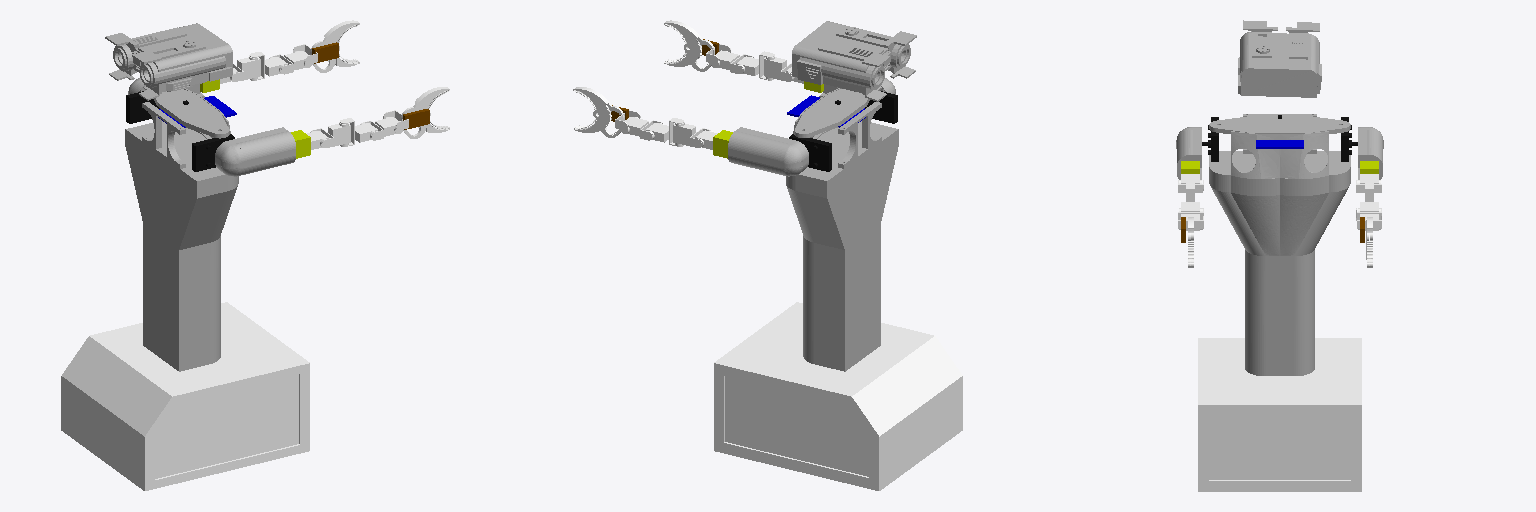
--- Facts derived from the render (not from the file) ---
3 views of the same robot in one strip: view 1: azimuth 30°, elevation 25°; view 2: azimuth 150°, elevation 25°; view 3: azimuth 270°, elevation 25° (orthographic).
Robot: gizmo — 48 links, 47 joints (18 revolute, 29 fixed); root link base_footprint; default pose: all joints at 0.
Visible links, largest first — view 1: base_link, torso_link, head, right_lift_link, right_rotate, right_left_claw, left_left_claw, left_rotate; view 2: base_link, torso_link, head, left_lift_link, left_rotate, right_left_claw, left_left_claw, right_rotate; view 3: torso_link, base_link, head, right_lift_link, left_lift_link.
Link boxes in pixels (bbox=[...]): base_link: bbox=[61, 302, 309, 490]; torso_link: bbox=[125, 88, 238, 371]; head: bbox=[105, 23, 232, 100]; right_lift_link: bbox=[215, 127, 295, 176]; right_rotate: bbox=[192, 134, 234, 171]; right_left_claw: bbox=[401, 87, 449, 138]; left_left_claw: bbox=[310, 20, 359, 72]; left_rotate: bbox=[126, 91, 159, 123]; base_link: bbox=[714, 302, 962, 490]; torso_link: bbox=[786, 88, 898, 371]; head: bbox=[792, 21, 916, 101]; left_lift_link: bbox=[728, 127, 808, 176]; left_rotate: bbox=[789, 134, 831, 171]; right_left_claw: bbox=[664, 20, 714, 71]; left_left_claw: bbox=[573, 87, 624, 137]; right_rotate: bbox=[865, 91, 897, 123]; torso_link: bbox=[1209, 114, 1350, 375]; base_link: bbox=[1198, 338, 1361, 491]; head: bbox=[1238, 20, 1321, 97]; right_lift_link: bbox=[1176, 127, 1201, 179]; left_lift_link: bbox=[1358, 127, 1383, 179].
Size in the robot's own frame: 0.7298 by 0.44 by 0.9421 metres.
28 mesh visuals loaded from 17 distinct referenced files (12 binary STL); not drawn: 6 (reference not matched to a file when rendering).

URDF robot description (gizmo):
<?xml version="1.0" encoding="utf-8"?>
<!-- =================================================================================== -->
<!-- |    This document was autogenerated by xacro from linorobot.xacro                | -->
<!-- |    EDITING THIS FILE BY HAND IS NOT RECOMMENDED                                 | -->
<!-- =================================================================================== -->
<!-- XML namespaces -->
<robot name="gizmo">
  <!-- ============================  A Few Color Macros  ============================ -->
  <!-- ============================  A Few Color Macros  ============================ -->
  <link name="base_footprint">
    <visual>
      <origin rpy="0 0 0" xyz="0 0 0"/>
      <geometry>
        <box size="0.1 0.1 0.005"/>
      </geometry>
      <material name="gold">
        <color rgba="0.5 0.3 0 1.0"/>
      </material>
    </visual>
    <collision>
      <origin rpy="0 0 0" xyz="0 0 0"/>
      <geometry>
        <box size="0.1 0.1 0.005"/>
      </geometry>
      <inertial>
        <mass value="0.01"/>
        <inertia ixx="0.0001" ixy="0.0" ixz="0.0" iyy="0.0001" iyz="0.0" izz="0.0001"/>
      </inertial>
    </collision>
  </link>
  <gazebo reference="base_footprint">
    <material>Gazebo/FlatBlack</material>
    <selfCollide>false</selfCollide>
    <turnGravityOff>false</turnGravityOff>
  </gazebo>
  <link name="imu_base">
    <visual>
      <origin rpy="0 0 0" xyz="0 0 0"/>
      <geometry>
        <box size="0.01 0.01 0.005"/>
      </geometry>
      <material name="black">
        <color rgba="0.1 0.1 0.1 1.0"/>
      </material>
    </visual>
    <collision>
      <origin rpy="0 0 0" xyz="0 0 0"/>
      <geometry>
        <box size="0.01 0.01 0.005"/>
      </geometry>
      <inertial>
        <mass value="0.01"/>
        <inertia ixx="0.0001" ixy="0.0" ixz="0.0" iyy="0.0001" iyz="0.0" izz="0.0001"/>
      </inertial>
    </collision>
  </link>
  <gazebo reference="imu_base">
    <material>Gazebo/FlatBlack</material>
    <selfCollide>false</selfCollide>
    <turnGravityOff>false</turnGravityOff>
  </gazebo>
  <link name="base_link">
    <visual>
      <geometry>
        <mesh filename="package://r2_description/mesh/base.stl" scale="0.001 0.001 0.001"/>
      </geometry>
      <material name="White">
        <color rgba="1.0 1.0 1.0 1.0"/>
      </material>
      <origin rpy="0 0 0" xyz="0 0 0"/>
    </visual>
    <collision>
      <origin rpy="0 0 0" xyz="0 0 0"/>
      <geometry>
        <mesh filename="package://r2_description/mesh/base.stl" scale="0.001 0.001 0.001"/>
      </geometry>
    </collision>
  </link>
  <link name="kinect_link">
    <inertial>
      <mass value="1.0"/>
      <origin xyz="0 0 0"/>
      <inertia ixx="1.0" ixy="0.0" ixz="0.0" iyy="1.0" iyz="0.0" izz="1.0"/>
    </inertial>
    <visual>
      <origin rpy="0 0 0" xyz=" 0 0 0 "/>
      <geometry>
        <mesh filename="package://r2_description/mesh/kinect.stl" scale="0.001 0.001 0.001"/>
      </geometry>
      <material name="ax12_color">
        <color rgba="0.1 0.1 0.1 1.0"/>
      </material>
    </visual>
    <collision>
      <origin rpy="0 0 0" xyz="0 0 0"/>
      <geometry>
        <mesh filename="package://r2_description/mesh/kinect.stl" scale="0.001 0.001 0.001"/>
      </geometry>
    </collision>
  </link>
  <link name="elbow_joint_r">
    <visual>
      <origin rpy="0 0 0" xyz="0 0 0"/>
      <geometry>
        <box size="0.042 0.042 0.042"/>
      </geometry>
      <material name="yellow2">
        <color rgba="0.8 0.9 0 1.0"/>
      </material>
    </visual>
    <collision>
      <origin rpy="0 0 0" xyz="0 0 0"/>
      <geometry>
        <box size="0.042 0.042 0.042"/>
      </geometry>
      <inertial>
        <mass value="0.01"/>
        <inertia ixx="0.0001" ixy="0.0" ixz="0.0" iyy="0.0001" iyz="0.0" izz="0.0001"/>
      </inertial>
    </collision>
  </link>
  <gazebo reference="elbow_joint_r">
    <material>Gazebo/FlatBlack</material>
    <selfCollide>false</selfCollide>
    <turnGravityOff>false</turnGravityOff>
  </gazebo>
  <link name="elbow_joint_l">
    <visual>
      <origin rpy="0 0 0" xyz="0 0 0"/>
      <geometry>
        <box size="0.042 0.042 0.042"/>
      </geometry>
      <material name="yellow2">
        <color rgba="0.8 0.9 0 1.0"/>
      </material>
    </visual>
    <collision>
      <origin rpy="0 0 0" xyz="0 0 0"/>
      <geometry>
        <box size="0.042 0.042 0.042"/>
      </geometry>
      <inertial>
        <mass value="0.01"/>
        <inertia ixx="0.0001" ixy="0.0" ixz="0.0" iyy="0.0001" iyz="0.0" izz="0.0001"/>
      </inertial>
    </collision>
  </link>
  <gazebo reference="elbow_joint_l">
    <material>Gazebo/FlatBlack</material>
    <selfCollide>false</selfCollide>
    <turnGravityOff>false</turnGravityOff>
  </gazebo>
  <link name="torso_link">
    <visual>
      <geometry>
        <mesh filename="package://r2_description/mesh/gizmo2_torso.stl" scale="0.001 0.001 0.001"/>
      </geometry>
      <material name="grey1">
        <color rgba="0.75 0.75 0.75 1.0"/>
      </material>
      <origin rpy="0 0 0" xyz="0 0 0"/>
    </visual>
    <collision>
      <origin rpy="0 0 0" xyz="-0 0 0"/>
      <geometry>
        <mesh filename="package://r2_description/mesh/gizmo2_torso.stl" scale="0.001 0.001 0.001"/>
      </geometry>
    </collision>
  </link>
  <link name="scanner_link">
    <visual>
      <geometry>
        <mesh filename="package://r2_description/mesh/X4.stl" scale="0.001 0.001 0.001"/>
      </geometry>
      <material name="grey1">
        <color rgba="0.75 0.75 0.75 1.0"/>
      </material>
      <origin rpy="0 0 0" xyz="0 0 0"/>
    </visual>
    <collision>
      <origin rpy="0 0 0" xyz="-0 0 0"/>
      <geometry>
        <mesh filename="package://r2_description/mesh/X4.stl" scale="0.001 0.001 0.001"/>
      </geometry>
    </collision>
  </link>
  <link name="pan_link">
    <visual>
      <origin rpy=" 1.57 0 1.57" xyz="0 0 0"/>
      <geometry>
        <mesh filename="package://r2_description/mesh/ax12.stl" scale="0.001 0.001 0.001"/>
      </geometry>
      <material name="ax12_color">
        <color rgba="0.1 0.1 0.1 1.0"/>
      </material>
    </visual>
    <collision>
      <origin rpy=" 1.57 0 1.57" xyz="0 0 0"/>
      <geometry>
        <!--<box size="0.032 0.038 0.05" />-->
        <mesh filename="package://r2_description/mesh/ax12.stl" scale="0.001 0.001 0.001"/>
      </geometry>
    </collision>
    <inertial>
      <mass value="0.055"/>
      <inertia ixx="0.0001" ixy="0.0" ixz="0.0" iyy="0.0001" iyz="0.0" izz="0.0001"/>
    </inertial>
  </link>
  <gazebo reference="pan_link">
    <material>Gazebo/FlatBlack</material>
    <selfCollide>false</selfCollide>
    <turnGravityOff>false</turnGravityOff>
  </gazebo>
  <link name="head_pan_link">
    <visual>
      <origin rpy="0 0 0" xyz="0 0 0"/>
      <geometry>
        <box size="0.15 0.1 0.005"/>
      </geometry>
      <material name="blue">
        <color rgba="0 0 0.9 1.0"/>
      </material>
    </visual>
    <collision>
      <origin rpy="0 0 0" xyz="0 0 0"/>
      <geometry>
        <box size="0.15 0.1 0.005"/>
      </geometry>
      <inertial>
        <mass value="0.01"/>
        <inertia ixx="0.0001" ixy="0.0" ixz="0.0" iyy="0.0001" iyz="0.0" izz="0.0001"/>
      </inertial>
    </collision>
  </link>
  <gazebo reference="head_pan_link">
    <material>Gazebo/FlatBlack</material>
    <selfCollide>false</selfCollide>
    <turnGravityOff>false</turnGravityOff>
  </gazebo>
  <link name="head_tilt_link">
    <visual>
      <origin rpy="0 0 3.14" xyz="0 0 0"/>
      <geometry>
        <mesh filename="package://r2_description/mesh/ax12.stl" scale="0.001 0.001 0.001"/>
      </geometry>
      <material name="ax12_color">
        <color rgba="0.1 0.1 0.1 1.0"/>
      </material>
    </visual>
    <collision>
      <origin rpy="0 0 3.14" xyz="0 0 0"/>
      <geometry>
        <!--<box size="0.032 0.038 0.05" />-->
        <mesh filename="package://r2_description/mesh/ax12.stl" scale="0.001 0.001 0.001"/>
      </geometry>
    </collision>
    <inertial>
      <mass value="0.055"/>
      <inertia ixx="0.0001" ixy="0.0" ixz="0.0" iyy="0.0001" iyz="0.0" izz="0.0001"/>
    </inertial>
  </link>
  <gazebo reference="head_tilt_link">
    <material>Gazebo/FlatBlack</material>
    <selfCollide>false</selfCollide>
    <turnGravityOff>false</turnGravityOff>
  </gazebo>
  <link name="head_tilt_r_bracket_f2">
    <visual>
      <origin rpy="0 0 0" xyz="0 0 0"/>
      <geometry>
        <mesh filename="package://r2_description/mesh/F2.stl" scale="0.001 0.001 0.001"/>
      </geometry>
      <material name="bracket_color">
        <color rgba="0.9 0.9 0.9 1.0"/>
      </material>
    </visual>
    <collision>
      <origin rpy="0 0 0" xyz="0 0 0"/>
      <geometry>
        <mesh filename="package://r2_description/mesh/F2.stl" scale="0.001 0.001 0.001"/>
      </geometry>
    </collision>
    <inertial>
      <mass value="0.02"/>
      <inertia ixx="0.0001" ixy="0.0" ixz="0.0" iyy="0.0001" iyz="0.0" izz="0.0001"/>
    </inertial>
  </link>
  <gazebo reference="head_tilt_r_bracket_f2">
    <material>Gazebo/White</material>
    <selfCollide>false</selfCollide>
    <turnGravityOff>false</turnGravityOff>
  </gazebo>
  <link name="neck">
    <visual>
      <geometry>
        <mesh filename="package://r2_description/mesh/gizmo_neck1.stl" scale="0.001 0.001 0.001"/>
      </geometry>
      <material name="grey1">
        <color rgba="0.75 0.75 0.75 1.0"/>
      </material>
      <origin rpy="0 0 0" xyz="0 0 0"/>
    </visual>
    <collision>
      <origin rpy="0 0 0" xyz="-0 0 0"/>
      <geometry>
        <mesh filename="package://r2_description/mesh/gizmo_neck1.stl" scale="0.001 0.001 0.001"/>
      </geometry>
    </collision>
  </link>
  <link name="head">
    <visual>
      <geometry>
        <mesh filename="package://r2_description/mesh/head1.stl" scale="0.0034 0.0034 0.0034"/>
      </geometry>
      <material name="grey1">
        <color rgba="0.75 0.75 0.75 1.0"/>
      </material>
      <origin rpy="0 0 0" xyz="0 0 0"/>
    </visual>
    <collision>
      <origin rpy="0 0 0" xyz="-0 0 0"/>
      <geometry>
        <mesh filename="package://r2_description/mesh/head1.stl" scale="0.0034 0.0034 0.0034"/>
      </geometry>
    </collision>
  </link>
  <link name="camera_link">
    <visual>
      <origin rpy="0 1.57 0" xyz="0 0 0"/>
      <geometry>
        <cylinder length="0.025" radius="0.01"/>
      </geometry>
      <material name="grey1">
        <color rgba="0.75 0.75 0.75 1.0"/>
      </material>
    </visual>
    <collision>
      <origin rpy="0 1.57 0" xyz="0 0 0"/>
      <geometry>
        <cylinder length="0.025" radius="0.01"/>
      </geometry>
    </collision>
    <inertial>
      <mass value="0.1"/>
      <inertia ixx="0.0001" ixy="0.0" ixz="0.0" iyy="0.0001" iyz="0.0" izz="0.0001"/>
    </inertial>
  </link>
  <gazebo reference="camera_link">
    <material>Gazebo/Grey</material>
    <selfCollide>false</selfCollide>
    <turnGravityOff>false</turnGravityOff>
  </gazebo>
  <link name="right_rotate">
    <visual>
      <geometry>
        <mesh filename="package://r2_description/mesh/gizmo2_servo_r.stl" scale="0.001 0.001 0.001"/>
      </geometry>
      <material name="black">
        <color rgba="0.1 0.1 0.1 1.0"/>
      </material>
      <origin rpy="0 0 0" xyz="0 0 0"/>
    </visual>
    <collision>
      <origin rpy="0 0 0" xyz="-0 0 0"/>
      <geometry>
        <mesh filename="package://r2_description/mesh/gizmo2_servo_r.stl" scale="0.001 0.001 0.001"/>
      </geometry>
    </collision>
  </link>
  <link name="left_rotate">
    <visual>
      <geometry>
        <mesh filename="package://r2_description/mesh/gizmo2_servo_l.stl" scale="0.001 0.001 0.001"/>
      </geometry>
      <material name="black">
        <color rgba="0.1 0.1 0.1 1.0"/>
      </material>
      <origin rpy="0 0 0" xyz="0 0 0"/>
    </visual>
    <collision>
      <origin rpy="0 0 0" xyz="-0 0 0"/>
      <geometry>
        <mesh filename="package://r2_description/mesh/gizmo2_servo_l.stl" scale="0.001 0.001 0.001"/>
      </geometry>
    </collision>
  </link>
  <link name="right_lift_link">
    <visual>
      <geometry>
        <mesh filename="package://r2_description/mesh/gizmo_upper_arm_r2.stl" scale="0.001 0.001 0.001"/>
      </geometry>
      <material name="grey1">
        <color rgba="0.75 0.75 0.75 1.0"/>
      </material>
      <origin rpy="0 0 0" xyz="0 0 0"/>
    </visual>
    <collision>
      <origin rpy="0 0 0" xyz="-0 0 0"/>
      <geometry>
        <mesh filename="package://r2_description/mesh/gizmo_upper_arm_r2.stl" scale="0.001 0.001 0.001"/>
      </geometry>
    </collision>
  </link>
  <link name="left_lift_link">
    <visual>
      <geometry>
        <mesh filename="package://r2_description/mesh/gizmo_upper_arm_l2.stl" scale="0.001 0.001 0.001"/>
      </geometry>
      <material name="grey1">
        <color rgba="0.75 0.75 0.75 1.0"/>
      </material>
      <origin rpy="0 0 0" xyz="0 0 0"/>
    </visual>
    <collision>
      <origin rpy="0 0 0" xyz="-0 0 0"/>
      <geometry>
        <mesh filename="package://r2_description/mesh/gizmo_upper_arm_l2.stl" scale="0.001 0.001 0.001"/>
      </geometry>
    </collision>
  </link>
  <link name="servo_r4">
    <visual>
      <geometry>
        <mesh filename="package://r2_description/mesh/servo.stl" scale="0.001 0.001 0.001"/>
      </geometry>
      <material name="White">
        <color rgba="1.0 1.0 1.0 1.0"/>
      </material>
      <origin rpy="0 0 0" xyz="0 0 0"/>
    </visual>
    <collision>
      <origin rpy="0 0 0" xyz="0 0 0"/>
      <geometry>
        <mesh filename="package://r2_description/mesh/servo.stl" scale="0.001 0.001 0.001"/>
      </geometry>
    </collision>
  </link>
  <link name="r_bracket5">
    <visual>
      <geometry>
        <mesh filename="package://r2_description/mesh/drive_bracket1.stl" scale="0.001 0.001 0.001"/>
      </geometry>
      <material name="White">
        <color rgba="1.0 1.0 1.0 1.0"/>
      </material>
      <origin rpy="0 0 0" xyz="0 0 0"/>
    </visual>
    <collision>
      <origin rpy="0 0 0" xyz="0 0 0"/>
      <geometry>
        <mesh filename="package://r2_description/mesh/drive_bracket1.stl" scale="0.001 0.001 0.001"/>
      </geometry>
    </collision>
  </link>
  <link name="servo_r5">
    <visual>
      <geometry>
        <mesh filename="package://r2_description/mesh/servo.stl" scale="0.001 0.001 0.001"/>
      </geometry>
      <material name="White">
        <color rgba="1.0 1.0 1.0 1.0"/>
      </material>
      <origin rpy="0 0 0" xyz="0 0 0"/>
    </visual>
    <collision>
      <origin rpy="0 0 0" xyz="0 0 0"/>
      <geometry>
        <mesh filename="package://r2_description/mesh/servo.stl" scale="0.001 0.001 0.001"/>
      </geometry>
    </collision>
  </link>
  <link name="r_bracket6">
    <visual>
      <geometry>
        <mesh filename="package://r2_description/mesh/drive_bracket1.stl" scale="0.001 0.001 0.001"/>
      </geometry>
      <material name="White">
        <color rgba="1.0 1.0 1.0 1.0"/>
      </material>
      <origin rpy="0 0 0" xyz="0 0 0"/>
    </visual>
    <collision>
      <origin rpy="0 0 0" xyz="0 0 0"/>
      <geometry>
        <mesh filename="package://r2_description/mesh/drive_bracket1.stl" scale="0.001 0.001 0.001"/>
      </geometry>
    </collision>
  </link>
  <link name="servo_r6">
    <visual>
      <geometry>
        <mesh filename="package://r2_description/mesh/servo.stl" scale="0.001 0.001 0.001"/>
      </geometry>
      <material name="White">
        <color rgba="1.0 1.0 1.0 1.0"/>
      </material>
      <origin rpy="0 0 0" xyz="0 0 0"/>
    </visual>
    <collision>
      <origin rpy="0 0 0" xyz="0 0 0"/>
      <geometry>
        <mesh filename="package://r2_description/mesh/servo.stl" scale="0.001 0.001 0.001"/>
      </geometry>
    </collision>
  </link>
  <link name="r_bracket7">
    <visual>
      <geometry>
        <mesh filename="package://r2_description/mesh/drive_bracket1.stl" scale="0.001 0.001 0.001"/>
      </geometry>
      <material name="White">
        <color rgba="1.0 1.0 1.0 1.0"/>
      </material>
      <origin rpy="0 0 0" xyz="0 0 0"/>
    </visual>
    <collision>
      <origin rpy="0 0 0" xyz="0 0 0"/>
      <geometry>
        <mesh filename="package://r2_description/mesh/drive_bracket1.stl" scale="0.001 0.001 0.001"/>
      </geometry>
    </collision>
  </link>
  <link name="servo_r7">
    <visual>
      <geometry>
        <mesh filename="package://r2_description/mesh/servo.stl" scale="0.001 0.001 0.001"/>
      </geometry>
      <material name="White">
        <color rgba="1.0 1.0 1.0 1.0"/>
      </material>
      <origin rpy="0 0 0" xyz="0 0 0"/>
    </visual>
    <collision>
      <origin rpy="0 0 0" xyz="0 0 0"/>
      <geometry>
        <mesh filename="package://r2_description/mesh/servo.stl" scale="0.001 0.001 0.001"/>
      </geometry>
    </collision>
  </link>
  <link name="r_bracket8">
    <visual>
      <geometry>
        <mesh filename="package://r2_description/mesh/drive_bracket1.stl" scale="0.001 0.001 0.001"/>
      </geometry>
      <material name="White">
        <color rgba="1.0 1.0 1.0 1.0"/>
      </material>
      <origin rpy="0 0 0" xyz="0 0 0"/>
    </visual>
    <collision>
      <origin rpy="0 0 0" xyz="0 0 0"/>
      <geometry>
        <mesh filename="package://r2_description/mesh/drive_bracket1.stl" scale="0.001 0.001 0.001"/>
      </geometry>
    </collision>
  </link>
  <link name="servo_l4">
    <visual>
      <geometry>
        <mesh filename="package://r2_description/mesh/servo.stl" scale="0.001 0.001 0.001"/>
      </geometry>
      <material name="White">
        <color rgba="1.0 1.0 1.0 1.0"/>
      </material>
      <origin rpy="0 0 0" xyz="0 0 0"/>
    </visual>
    <collision>
      <origin rpy="0 0 0" xyz="0 0 0"/>
      <geometry>
        <mesh filename="package://r2_description/mesh/servo.stl" scale="0.001 0.001 0.001"/>
      </geometry>
    </collision>
  </link>
  <link name="l_bracket5">
    <visual>
      <geometry>
        <mesh filename="package://r2_description/mesh/drive_bracket1.stl" scale="0.001 0.001 0.001"/>
      </geometry>
      <material name="White">
        <color rgba="1.0 1.0 1.0 1.0"/>
      </material>
      <origin rpy="0 0 0" xyz="0 0 0"/>
    </visual>
    <collision>
      <origin rpy="0 0 0" xyz="0 0 0"/>
      <geometry>
        <mesh filename="package://r2_description/mesh/drive_bracket1.stl" scale="0.001 0.001 0.001"/>
      </geometry>
    </collision>
  </link>
  <link name="servo_l5">
    <visual>
      <geometry>
        <mesh filename="package://r2_description/mesh/servo.stl" scale="0.001 0.001 0.001"/>
      </geometry>
      <material name="White">
        <color rgba="1.0 1.0 1.0 1.0"/>
      </material>
      <origin rpy="0 0 0" xyz="0 0 0"/>
    </visual>
    <collision>
      <origin rpy="0 0 0" xyz="0 0 0"/>
      <geometry>
        <mesh filename="package://r2_description/mesh/servo.stl" scale="0.001 0.001 0.001"/>
      </geometry>
    </collision>
  </link>
  <link name="l_bracket6">
    <visual>
      <geometry>
        <mesh filename="package://r2_description/mesh/drive_bracket1.stl" scale="0.001 0.001 0.001"/>
      </geometry>
      <material name="White">
        <color rgba="1.0 1.0 1.0 1.0"/>
      </material>
      <origin rpy="0 0 0" xyz="0 0 0"/>
    </visual>
    <collision>
      <origin rpy="0 0 0" xyz="0 0 0"/>
      <geometry>
        <mesh filename="package://r2_description/mesh/drive_bracket1.stl" scale="0.001 0.001 0.001"/>
      </geometry>
    </collision>
  </link>
  <link name="servo_l6">
    <visual>
      <geometry>
        <mesh filename="package://r2_description/mesh/servo.stl" scale="0.001 0.001 0.001"/>
      </geometry>
      <material name="White">
        <color rgba="1.0 1.0 1.0 1.0"/>
      </material>
      <origin rpy="0 0 0" xyz="0 0 0"/>
    </visual>
    <collision>
      <origin rpy="0 0 0" xyz="0 0 0"/>
      <geometry>
        <mesh filename="package://r2_description/mesh/servo.stl" scale="0.001 0.001 0.001"/>
      </geometry>
    </collision>
  </link>
  <link name="l_bracket7">
    <visual>
      <geometry>
        <mesh filename="package://r2_description/mesh/drive_bracket1.stl" scale="0.001 0.001 0.001"/>
      </geometry>
      <material name="White">
        <color rgba="1.0 1.0 1.0 1.0"/>
      </material>
      <origin rpy="0 0 0" xyz="0 0 0"/>
    </visual>
    <collision>
      <origin rpy="0 0 0" xyz="0 0 0"/>
      <geometry>
        <mesh filename="package://r2_description/mesh/drive_bracket1.stl" scale="0.001 0.001 0.001"/>
      </geometry>
    </collision>
  </link>
  <link name="servo_l7">
    <visual>
      <geometry>
        <mesh filename="package://r2_description/mesh/servo.stl" scale="0.001 0.001 0.001"/>
      </geometry>
      <material name="White">
        <color rgba="1.0 1.0 1.0 1.0"/>
      </material>
      <origin rpy="0 0 0" xyz="0 0 0"/>
    </visual>
    <collision>
      <origin rpy="0 0 0" xyz="0 0 0"/>
      <geometry>
        <mesh filename="package://r2_description/mesh/servo.stl" scale="0.001 0.001 0.001"/>
      </geometry>
    </collision>
  </link>
  <link name="l_bracket8">
    <visual>
      <geometry>
        <mesh filename="package://r2_description/mesh/drive_bracket1.stl" scale="0.001 0.001 0.001"/>
      </geometry>
      <material name="White">
        <color rgba="1.0 1.0 1.0 1.0"/>
      </material>
      <origin rpy="0 0 0" xyz="0 0 0"/>
    </visual>
    <collision>
      <origin rpy="0 0 0" xyz="0 0 0"/>
      <geometry>
        <mesh filename="package://r2_description/mesh/drive_bracket1.stl" scale="0.001 0.001 0.001"/>
      </geometry>
    </collision>
  </link>
  <!--############################# right arm ################-->
  <joint name="joint8" type="revolute">
    <parent link="torso_link"/>
    <child link="right_rotate"/>
    <origin rpy="0 0 0" xyz="0.01 -0.13 0.65"/>
    <axis xyz="0 0 1"/>
    <limit effort="100" lower="-0.89" upper="1.41" velocity="0.5"/>
    <dynamics damping="0.0"/>
  </joint>
  <joint name="joint9" type="revolute">
    <parent link="right_rotate"/>
    <child link="right_lift_link"/>
    <origin rpy="0 0 0" xyz="0 -0.03 -0"/>
    <axis xyz="0 1 0"/>
    <limit effort="100" lower="-2" upper="2" velocity="0.5"/>
    <dynamics damping="0.0"/>
  </joint>
  <joint name="joint10" type="revolute">
    <parent link="right_lift_link"/>
    <child link="elbow_joint_r"/>
    <origin rpy="0 0 0" xyz="0.15 -0.03 -0"/>
    <axis xyz="1 0 0"/>
    <limit effort="100" lower="-1.57" upper="1.57" velocity="0.5"/>
    <dynamics damping="0.0"/>
  </joint>
  <joint name="servo_r4_link" type="fixed">
    <parent link="elbow_joint_r"/>
    <child link="servo_r4"/>
    <origin rpy="1.57 0 1.57" xyz="0.02 -0.02 -0.01"/>
    <dynamics damping="0.0"/>
  </joint>
  <joint name="joint11" type="revolute">
    <parent link="servo_r4"/>
    <child link="r_bracket5"/>
    <origin rpy="0 3.14 1.57" xyz="0.02 0.01 0.04"/>
    <axis xyz="0 1 0"/>
    <limit effort="100" lower="-1.57" upper="1.57" velocity="0.5"/>
    <dynamics damping="0.0"/>
  </joint>
  <joint name="servo_r5_link" type="fixed">
    <parent link="r_bracket5"/>
    <child link="servo_r5"/>
    <origin rpy="0 3.14 0" xyz="0.02 -0.01 -0.02"/>
    <dynamics damping="0.0"/>
  </joint>
  <joint name="joint12" type="revolute">
    <parent link="servo_r5"/>
    <child link="r_bracket6"/>
    <origin rpy="0 3.14 1.57" xyz="0.02 0.01 0.04"/>
    <axis xyz="0 1 0"/>
    <limit effort="100" lower="-1.57" upper="1.57" velocity="0.5"/>
    <dynamics damping="0.0"/>
  </joint>
  <joint name="joint13" type="revolute">
    <parent link="r_bracket6"/>
    <child link="servo_r6"/>
    <origin rpy="0 3.14 0" xyz="0.02 0 -0.02"/>
    <axis xyz="0 0 1"/>
    <limit effort="100" lower="-1.57" upper="1.57" velocity="0.5"/>
    <dynamics damping="0.0"/>
  </joint>
  <joint name="servo_r6_link" type="fixed">
    <parent link="servo_r6"/>
    <child link="r_bracket7"/>
    <origin rpy="0 3.14 1.57" xyz="0.02 0.01 0.04"/>
    <axis xyz="0 1 0"/>
    <limit effort="100" lower="-1.57" upper="1.57" velocity="0.5"/>
    <dynamics damping="0.0"/>
  </joint>
  <joint name="servo_r7_link" type="fixed">
    <parent link="servo_r6"/>
    <child link="servo_r7"/>
    <origin rpy="0 0 0" xyz="0 0 0.06"/>
    <axis xyz="0 1 0"/>
    <limit effort="100" lower="-1.57" upper="1.57" velocity="0.5"/>
    <dynamics damping="0.0"/>
  </joint>
  <joint name="joint14" type="revolute">
    <parent link="servo_r7"/>
    <child link="r_bracket8"/>
    <origin rpy="0 3.14 1.57" xyz="0.02 0 0.04"/>
    <axis xyz="0 1 0"/>
    <limit effort="100" lower="-1.57" upper="1.57" velocity="0.5"/>
    <dynamics damping="0.0"/>
  </joint>
  <link name="right_gripper_base">
    <visual>
      <origin rpy="0 0 0" xyz="0 -0.03 -0.015"/>
      <geometry>
        <box size="0.032 0.06 0.01"/>
      </geometry>
      <material name="gold">
        <color rgba="0.5 0.3 0 1.0"/>
      </material>
    </visual>
    <collision>
      <origin rpy="0 0 0" xyz="0 -0.03 -0.015"/>
      <geometry>
        <box size="0.032 0.06 0.01"/>
      </geometry>
      <inertial>
        <mass value="0.01"/>
        <inertia ixx="0.0001" ixy="0.0" ixz="0.0" iyy="0.0001" iyz="0.0" izz="0.0001"/>
      </inertial>
    </collision>
  </link>
  <gazebo reference="right_gripper_base">
    <material>Gazebo/FlatBlack</material>
    <selfCollide>false</selfCollide>
    <turnGravityOff>false</turnGravityOff>
  </gazebo>
  <link name="right_right_claw">
    <visual>
      <geometry>
        <mesh filename="package://r2_description/mesh/claw_3_rr.stl" scale="0.001 0.001 0.001"/>
      </geometry>
      <material name="White">
        <color rgba="1.0 1.0 1.0 1.0"/>
      </material>
      <origin rpy="0 0 0" xyz="0 0 0"/>
    </visual>
    <collision>
      <origin rpy="0 0 0" xyz="0 0 0"/>
      <geometry>
        <mesh filename="package://r2_description/mesh/claw_3_rr.stl" scale="0.001 0.001 0.001"/>
      </geometry>
    </collision>
  </link>
  <link name="right_left_claw">
    <visual>
      <geometry>
        <mesh filename="package://r2_description/mesh/claw_3_l.stl" scale="0.001 0.001 0.001"/>
      </geometry>
      <material name="White">
        <color rgba="1.0 1.0 1.0 1.0"/>
      </material>
      <origin rpy="0 0 0" xyz="0 0 0"/>
    </visual>
    <collision>
      <origin rpy="0 0 0" xyz="0 0 0"/>
      <geometry>
        <mesh filename="package://r2_description/mesh/claw_3_l.stl" scale="0.001 0.001 0.001"/>
      </geometry>
    </collision>
  </link>
  <joint name="right_gripper_base_joint" type="fixed">
    <parent link="r_bracket8"/>
    <child link="right_gripper_base"/>
    <origin rpy="-1.57 0 0" xyz="0 0 -0.07"/>
    <axis xyz="0 0 1"/>
    <limit effort="10" lower="-0.64" upper="0" velocity="1"/>
    <dynamics damping="0.0"/>
  </joint>
  <joint name="joint15" type="revolute">
    <parent link="right_gripper_base"/>
    <child link="right_right_claw"/>
    <origin rpy="0 0 0" xyz="0 0 0"/>
    <axis xyz="0 0 1"/>
    <limit effort="10" lower="-1.3" upper="0.0" velocity="1"/>
    <dynamics damping="0.0"/>
  </joint>
  <joint name="right_gripper_finger_joint2" type="fixed">
    <parent link="right_gripper_base"/>
    <child link="right_left_claw"/>
    <origin rpy="0 0 0" xyz="0 0 0"/>
    <axis xyz="0 0 1"/>
    <limit effort="10" lower="-0.64" upper="0.0" velocity="1"/>
    <!--<mimic joint="${side}_gripper_finger_joint" multiplier="-1" offset="0"/> -->
    <dynamics damping="0.0"/>
  </joint>
  <!-- Fake gripper link and joint for grasp planning -->
  <joint name="right_gripper_joint" type="fixed">
    <origin rpy="0 0 1.57" xyz="0 0.03 0"/>
    <parent link="right_right_claw"/>
    <child link="right_gripper_link"/>
  </joint>
  <link name="right_gripper_link">
    <visual>
      <origin rpy="0 0 0" xyz="-0.05 0 0"/>
      <geometry>
        <box size="0.001 0.001 0.001"/>
      </geometry>
    </visual>
    <collision>
      <origin rpy="0 0 0" xyz="-0.05 0 0"/>
      <geometry>
        <box size="0.001 0.001 0.001"/>
      </geometry>
    </collision>
    <!--inertial>
         <mass value="0.0012" />
         <origin xyz="0 0 0"/>
         <inertia ixx="2e-8" ixy="0.0" ixz="0.0"
          iyy="2e-8" iyz="0.0"
          izz="2e-8" />
      </inertial -->
  </link>
  <!-- ##############################   joints ##################333333-->
  <joint name="base_footprint" type="fixed">
    <parent link="base_footprint"/>
    <child link="base_link"/>
    <origin rpy="0 0 0" xyz="0.06 0 0.06"/>
  </joint>
  <joint name="torso_link" type="fixed">
    <parent link="base_link"/>
    <child link="torso_link"/>
    <origin rpy="0 0 0" xyz="0.0 0 0.012"/>
  </joint>
  <joint name="imu_link" type="fixed">
    <parent link="base_link"/>
    <child link="imu_base"/>
    <origin rpy="0 0 0" xyz="0.0 0 0.72"/>
  </joint>
  <joint name="laser_frame" type="fixed">
    <parent link="base_link"/>
    <child link="scanner_link"/>
    <origin rpy="0 0 3.14" xyz="0.1 0 0.63"/>
  </joint>
  <joint name="pan_link" type="fixed">
    <parent link="torso_link"/>
    <child link="pan_link"/>
    <origin rpy="0 0 0" xyz="0.02 0 0.68"/>
  </joint>
  <!-- head_pan_joint-->
  <joint name="joint16" type="revolute">
    <parent link="pan_link"/>
    <child link="head_pan_link"/>
    <origin rpy="0 0 3.14159" xyz="-0.04 0 0.02"/>
    <origin rpy="0 0 0" xyz="0 0 0.0"/>
    <axis xyz="0 0 1"/>
    <limit effort="100" lower="-2" upper="2" velocity="0.5"/>
    <dynamics damping="0.0"/>
  </joint>
  <!-- head_tilt_servo-->
  <joint name="head_tilt_link" type="fixed">
    <parent link="head_pan_link"/>
    <child link="head_tilt_link"/>
    <origin rpy="0 0 0" xyz="-0.06 0 0.04"/>
  </joint>
  <!-- head_tilt_joint-->
  <joint name="joint17" type="revolute">
    <parent link="head_tilt_link"/>
    <child link="head_tilt_r_bracket_f2"/>
    <origin rpy="0 0 3.14" xyz="0 0 0.0"/>
    <axis xyz="0 1 0"/>
    <limit effort="100" lower="2" upper="-2" velocity="0.5"/>
    <dynamics damping="0.0"/>
  </joint>
  <!-- neck-->
  <joint name="neck_link" type="fixed">
    <parent link="head_tilt_r_bracket_f2"/>
    <child link="neck"/>
    <origin rpy="0 0 0" xyz="0 0 0.05"/>
  </joint>
  <!-- head-->
  <joint name="head_link" type="fixed">
    <parent link="neck"/>
    <child link="head"/>
    <origin rpy="0 0 0" xyz="0 0 0.05"/>
  </joint>
  <!-- camera-->
  <joint name="camera_link" type="fixed">
    <parent link="head"/>
    <child link="camera_link"/>
    <origin rpy="0 0 3.14159" xyz="0.065 0.055 0.005"/>
  </joint>
  <link name="d435_link">
    <visual>
      <origin rpy="1.570795 0 1.570795" xyz="0.0149 -0.0175 0"/>
      <geometry>
        <!--<box size="${d435_cam_width} ${d435_cam_height} ${d435_cam_depth}"/> -->
        <mesh filename="package://r2_description/mesh/d435.dae"/>
      </geometry>
    </visual>
    <collision>
      <origin rpy="0 0 0" xyz="0 -0.0175 0"/>
      <geometry>
        <box size="0.02505 0.09 0.025"/>
      </geometry>
    </collision>
    <inertial>
      <!-- The following are not reliable values, and should not be used for modeling -->
      <mass value="0.564"/>
      <origin xyz="0 0 0"/>
      <inertia ixx="0.003881243" ixy="0.0" ixz="0.0" iyy="0.000498940" iyz="0.0" izz="0.003879257"/>
    </inertial>
  </link>
  <!--############################# left arm ################-->
  <joint name="joint0" type="revolute">
    <parent link="torso_link"/>
    <child link="left_rotate"/>
    <origin rpy="0 0 0" xyz="0.01 0.13 0.65"/>
    <axis xyz="0 0 1"/>
    <limit effort="100" lower="-1.34" upper="1.15" velocity="0.5"/>
    <dynamics damping="0.0"/>
  </joint>
  <joint name="joint1" type="revolute">
    <parent link="left_rotate"/>
    <child link="left_lift_link"/>
    <origin rpy="0 0 0" xyz="0 0.03 0"/>
    <axis xyz="0 1 0"/>
    <limit effort="100" lower="-1.57" upper="1.57" velocity="0.5"/>
    <dynamics damping="0.0"/>
  </joint>
  <joint name="joint2" type="revolute">
    <parent link="left_lift_link"/>
    <child link="elbow_joint_l"/>
    <origin rpy="0 0 0" xyz="0.15 0.03 -0"/>
    <axis xyz="1 0 0"/>
    <limit effort="100" lower="-1.57" upper="1.57" velocity="0.5"/>
    <dynamics damping="0.0"/>
  </joint>
  <joint name="servo_l4_link" type="fixed">
    <parent link="elbow_joint_l"/>
    <child link="servo_l4"/>
    <origin rpy="1.57 0 1.57" xyz="0.02 -0.02 -0.01"/>
    <dynamics damping="0.0"/>
  </joint>
  <joint name="joint3" type="revolute">
    <parent link="servo_l4"/>
    <child link="l_bracket5"/>
    <origin rpy="0 3.14 1.57" xyz="0.02 0.01 0.04"/>
    <axis xyz="0 1 0"/>
    <limit effort="100" lower="-1.57" upper="1.57" velocity="0.5"/>
    <dynamics damping="0.0"/>
  </joint>
  <joint name="servo_l5_link" type="fixed">
    <parent link="l_bracket5"/>
    <child link="servo_l5"/>
    <origin rpy="0 3.14 0" xyz="0.02 -0.01 -0.02"/>
    <dynamics damping="0.0"/>
  </joint>
  <joint name="joint4" type="revolute">
    <parent link="servo_l5"/>
    <child link="l_bracket6"/>
    <origin rpy="0 3.14 1.57" xyz="0.02 0.01 0.04"/>
    <axis xyz="0 1 0"/>
    <limit effort="100" lower="-1.57" upper="1.57" velocity="0.5"/>
    <dynamics damping="0.0"/>
  </joint>
  <joint name="joint5" type="revolute">
    <parent link="l_bracket6"/>
    <child link="servo_l6"/>
    <origin rpy="0 3.14 0" xyz="0.02 0 -0.02"/>
    <axis xyz="0 0 1"/>
    <limit effort="100" lower="-1.57" upper="1.57" velocity="0.5"/>
    <dynamics damping="0.0"/>
  </joint>
  <joint name="servo_l6_link" type="fixed">
    <parent link="servo_l6"/>
    <child link="l_bracket7"/>
    <origin rpy="0 3.14 1.57" xyz="0.02 0.01 0.04"/>
    <axis xyz="0 1 0"/>
    <limit effort="100" lower="-1.57" upper="1.57" velocity="0.5"/>
    <dynamics damping="0.0"/>
  </joint>
  <joint name="servo_l7_link" type="fixed">
    <parent link="servo_l6"/>
    <child link="servo_l7"/>
    <origin rpy="0 0 0" xyz="0 0 0.06"/>
    <axis xyz="0 1 0"/>
    <limit effort="100" lower="-1.57" upper="1.57" velocity="0.5"/>
    <dynamics damping="0.0"/>
  </joint>
  <joint name="joint6" type="revolute">
    <parent link="servo_l7"/>
    <child link="l_bracket8"/>
    <origin rpy="0 3.14 1.57" xyz="0.02 0 0.04"/>
    <axis xyz="0 1 0"/>
    <limit effort="100" lower="-1.57" upper="1.57" velocity="0.5"/>
    <dynamics damping="0.0"/>
  </joint>
  <link name="left_gripper_base">
    <visual>
      <origin rpy="0 0 0" xyz="0 -0.03 -0.015"/>
      <geometry>
        <box size="0.032 0.06 0.01"/>
      </geometry>
      <material name="gold">
        <color rgba="0.5 0.3 0 1.0"/>
      </material>
    </visual>
    <collision>
      <origin rpy="0 0 0" xyz="0 -0.03 -0.015"/>
      <geometry>
        <box size="0.032 0.06 0.01"/>
      </geometry>
      <inertial>
        <mass value="0.01"/>
        <inertia ixx="0.0001" ixy="0.0" ixz="0.0" iyy="0.0001" iyz="0.0" izz="0.0001"/>
      </inertial>
    </collision>
  </link>
  <gazebo reference="left_gripper_base">
    <material>Gazebo/FlatBlack</material>
    <selfCollide>false</selfCollide>
    <turnGravityOff>false</turnGravityOff>
  </gazebo>
  <link name="left_right_claw">
    <visual>
      <geometry>
        <mesh filename="package://r2_description/mesh/claw_3_rr.stl" scale="0.001 0.001 0.001"/>
      </geometry>
      <material name="White">
        <color rgba="1.0 1.0 1.0 1.0"/>
      </material>
      <origin rpy="0 0 0" xyz="0 0 0"/>
    </visual>
    <collision>
      <origin rpy="0 0 0" xyz="0 0 0"/>
      <geometry>
        <mesh filename="package://r2_description/mesh/claw_3_rr.stl" scale="0.001 0.001 0.001"/>
      </geometry>
    </collision>
  </link>
  <link name="left_left_claw">
    <visual>
      <geometry>
        <mesh filename="package://r2_description/mesh/claw_3_l.stl" scale="0.001 0.001 0.001"/>
      </geometry>
      <material name="White">
        <color rgba="1.0 1.0 1.0 1.0"/>
      </material>
      <origin rpy="0 0 0" xyz="0 0 0"/>
    </visual>
    <collision>
      <origin rpy="0 0 0" xyz="0 0 0"/>
      <geometry>
        <mesh filename="package://r2_description/mesh/claw_3_l.stl" scale="0.001 0.001 0.001"/>
      </geometry>
    </collision>
  </link>
  <joint name="left_gripper_base_joint" type="fixed">
    <parent link="l_bracket8"/>
    <child link="left_gripper_base"/>
    <origin rpy="-1.57 0 0" xyz="0 0 -0.07"/>
    <axis xyz="0 0 1"/>
    <limit effort="10" lower="-0.64" upper="0" velocity="1"/>
    <dynamics damping="0.0"/>
  </joint>
  <joint name="joint7" type="revolute">
    <parent link="left_gripper_base"/>
    <child link="left_right_claw"/>
    <origin rpy="0 0 0" xyz="0 0 0"/>
    <axis xyz="0 0 1"/>
    <limit effort="10" lower="-1.3" upper="0.0" velocity="1"/>
    <dynamics damping="0.0"/>
  </joint>
  <joint name="left_gripper_finger_joint2" type="fixed">
    <parent link="left_gripper_base"/>
    <child link="left_left_claw"/>
    <origin rpy="0 0 0" xyz="0 0 0"/>
    <axis xyz="0 0 1"/>
    <limit effort="10" lower="-0.64" upper="0.0" velocity="1"/>
    <!--<mimic joint="${side}_gripper_finger_joint" multiplier="-1" offset="0"/> -->
    <dynamics damping="0.0"/>
  </joint>
  <!-- Fake gripper link and joint for grasp planning -->
  <joint name="left_gripper_joint" type="fixed">
    <origin rpy="0 0 1.57" xyz="0 0.03 0"/>
    <parent link="left_right_claw"/>
    <child link="left_gripper_link"/>
  </joint>
  <link name="left_gripper_link">
    <visual>
      <origin rpy="0 0 0" xyz="-0.05 0 0"/>
      <geometry>
        <box size="0.001 0.001 0.001"/>
      </geometry>
    </visual>
    <collision>
      <origin rpy="0 0 0" xyz="-0.05 0 0"/>
      <geometry>
        <box size="0.001 0.001 0.001"/>
      </geometry>
    </collision>
    <!--inertial>
         <mass value="0.0012" />
         <origin xyz="0 0 0"/>
         <inertia ixx="2e-8" ixy="0.0" ixz="0.0"
          iyy="2e-8" iyz="0.0"
          izz="2e-8" />
      </inertial -->
  </link>
  <joint name="kinect_joint" type="fixed">
    <parent link="base_link"/>
    <child link="kinect_link"/>
    <origin rpy="0 0 0" xyz="0.09 0 0.22"/>
  </joint>
  <joint name="kinect_depth_joint" type="fixed">
    <origin rpy="0 0 0" xyz="0 0.0125 0.015"/>
    <parent link="kinect_link"/>
    <child link="kinect_depth_frame"/>
  </joint>
  <link name="kinect_depth_frame">
    <inertial>
      <mass value="0.000001"/>
      <origin xyz="0 0 0"/>
      <inertia ixx="0.0001" ixy="0.0" ixz="0.0" iyy="0.0001" iyz="0.0" izz="0.0001"/>
    </inertial>
  </link>
  <joint name="kinect_depth_optical_joint" type="fixed">
    <origin rpy="-1.57075 0 -1.57075" xyz="0 0 0"/>
    <parent link="kinect_depth_frame"/>
    <child link="kinect_depth_optical_frame"/>
  </joint>
  <link name="kinect_depth_optical_frame">
    <inertial>
      <mass value="0.000001"/>
      <origin xyz="0 0 0"/>
      <inertia ixx="0.0001" ixy="0.0" ixz="0.0" iyy="0.0001" iyz="0.0" izz="0.0001"/>
    </inertial>
  </link>
  <joint name="kinect_rgb_joint" type="fixed">
    <origin rpy="0 0 0" xyz="0 -0.0125 0.01"/>
    <parent link="kinect_link"/>
    <child link="kinect_rgb_frame"/>
  </joint>
  <link name="kinect_rgb_frame">
    <inertial>
      <mass value="0.000001"/>
      <origin xyz="0 0 0"/>
      <inertia ixx="0.0001" ixy="0.0" ixz="0.0" iyy="0.0001" iyz="0.0" izz="0.0001"/>
    </inertial>
  </link>
  <joint name="kinect_rgb_optical_joint" type="fixed">
    <origin rpy="-1.57075 0 -1.57075" xyz="0 0 0"/>
    <parent link="kinect_rgb_frame"/>
    <child link="kinect_rgb_optical_frame"/>
  </joint>
  <link name="kinect_rgb_optical_frame">
    <inertial>
      <mass value="0.000001"/>
      <origin xyz="0 0 0"/>
      <inertia ixx="0.0001" ixy="0.0" ixz="0.0" iyy="0.0001" iyz="0.0" izz="0.0001"/>
    </inertial>
  </link>
  <joint name="d435_joint" type="fixed">
    <parent link="head"/>
    <child link="d435_link"/>
    <origin rpy="0 0 0" xyz="0.02 0.018 -0.06"/>
  </joint>
</robot>
